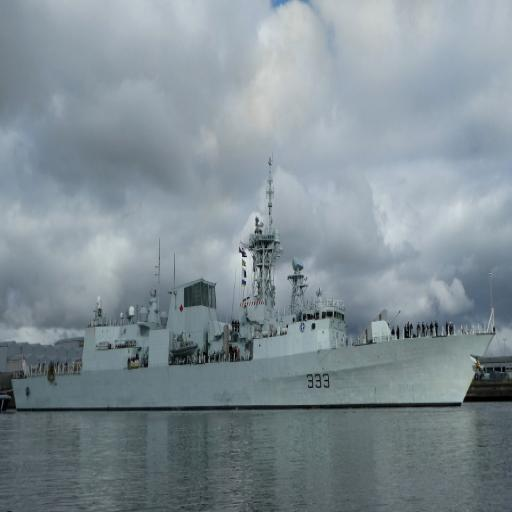Fragata: (10, 142, 499, 413)
